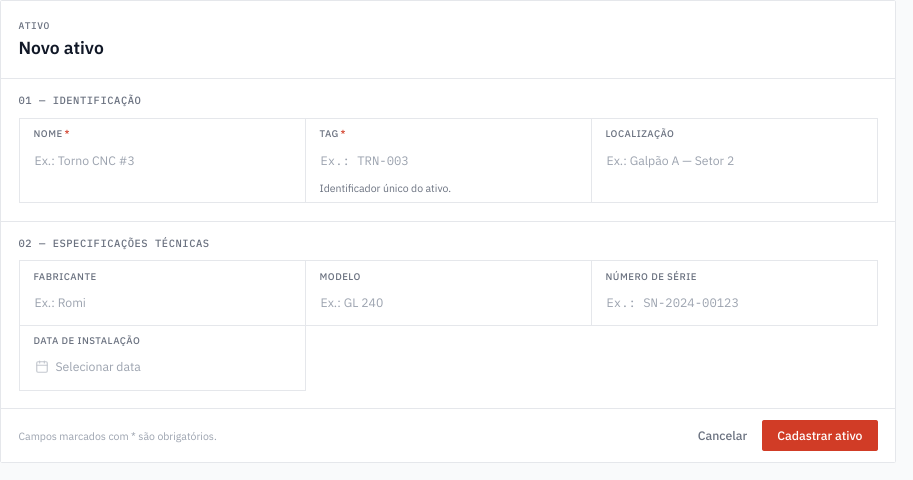
AssetEditPage — modo criação › deve exigir nome e tag antes de submeter
The width and height of the screenshot is (913, 480).
Click the button "Cadastrar ativo".
click(820, 436)  # box [762,420,878,451]
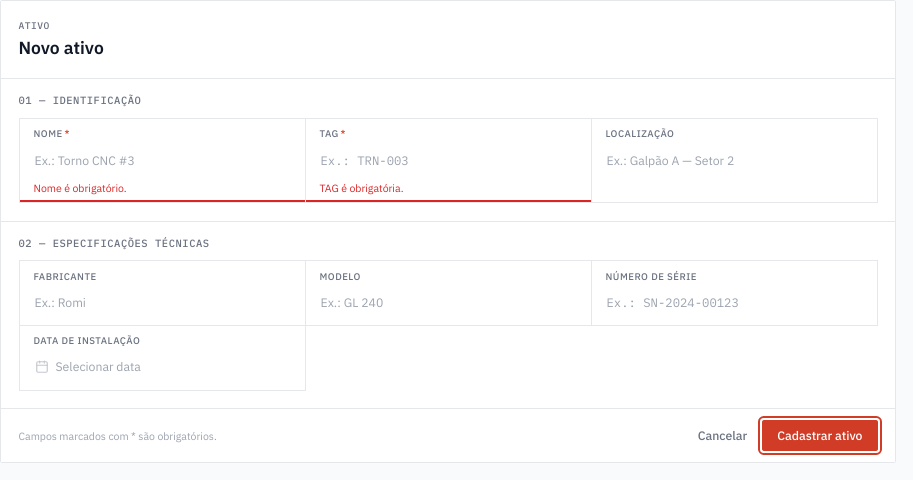
Expected: the text "Nome é obrigatório." is shown, [34,181,127,195]
Expected: the text "TAG é obrigatória." is shown, [320,181,404,195]
